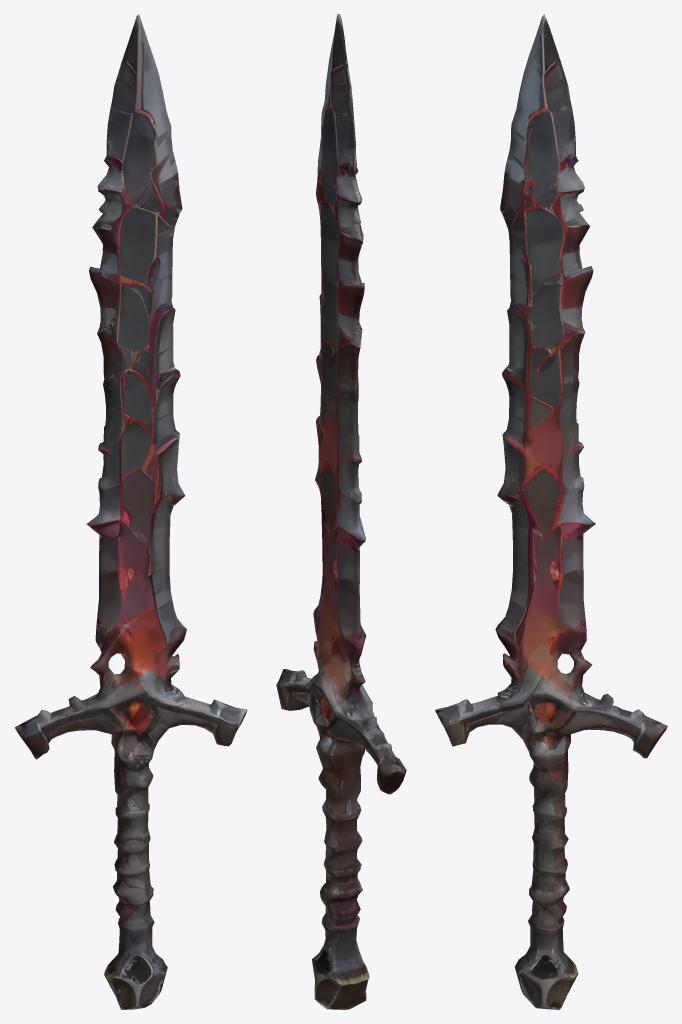
The model's file is wpn_abyssedge.glb.
3 renders of one model, left to right at view 1: azimuth 90°, elevation 25°; view 2: azimuth 210°, elevation 25°; view 3: azimuth 270°, elevation 25°, orthographic.
Visible parts, largest first — view 1: tripo_node_f8f45da5-fd92-43bd-bc84-dc040022fea8; view 2: tripo_node_f8f45da5-fd92-43bd-bc84-dc040022fea8; view 3: tripo_node_f8f45da5-fd92-43bd-bc84-dc040022fea8.
Part boxes in pixels (x1,y1,x2,y2): tripo_node_f8f45da5-fd92-43bd-bc84-dc040022fea8: (14,14,247,1009); tripo_node_f8f45da5-fd92-43bd-bc84-dc040022fea8: (276,14,406,1009); tripo_node_f8f45da5-fd92-43bd-bc84-dc040022fea8: (435,14,667,1009).
Bounding box in the file's own units: 0.05 × 0.9993 × 0.2129.
1 material, 1 textured.
